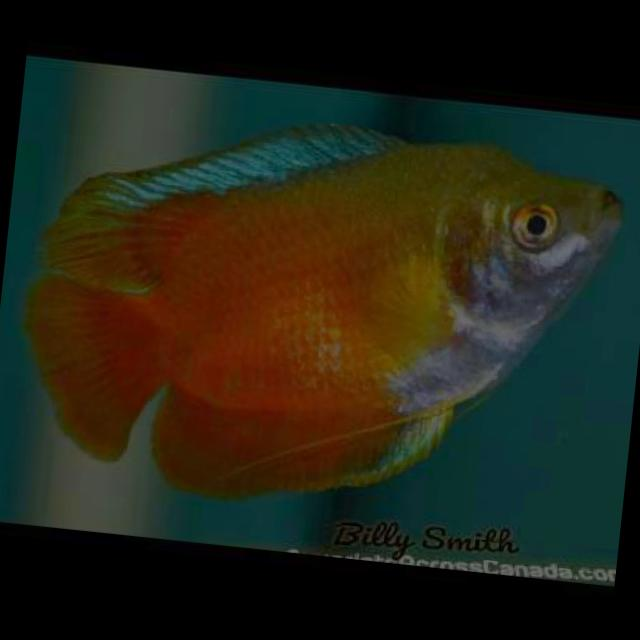Gourami: (19, 92, 622, 536)
